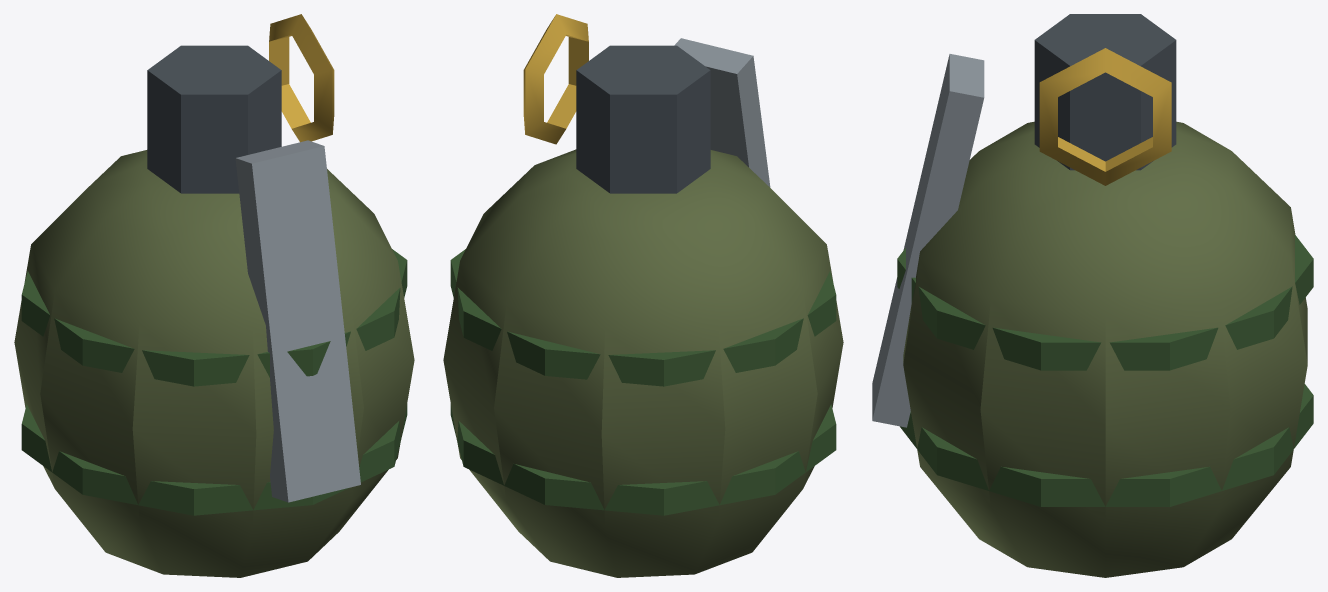
File: Throwable_FragGrenade.fbx
3 views of the same model, side by side, from view 1: azimuth 30°, elevation 25°; view 2: azimuth 150°, elevation 25°; view 3: azimuth 270°, elevation 25° (orthographic). The views are drawn at different scales.
Visible parts, largest first — view 1: Grenade; view 2: Grenade; view 3: Grenade.
Part boxes in pixels (x1,y1,x2,y2): Grenade: (14, 14, 414, 577); Grenade: (443, 14, 843, 577); Grenade: (872, 14, 1313, 577).
Bounding box in the file's own units: 0.48 × 0.666 × 0.4982.
